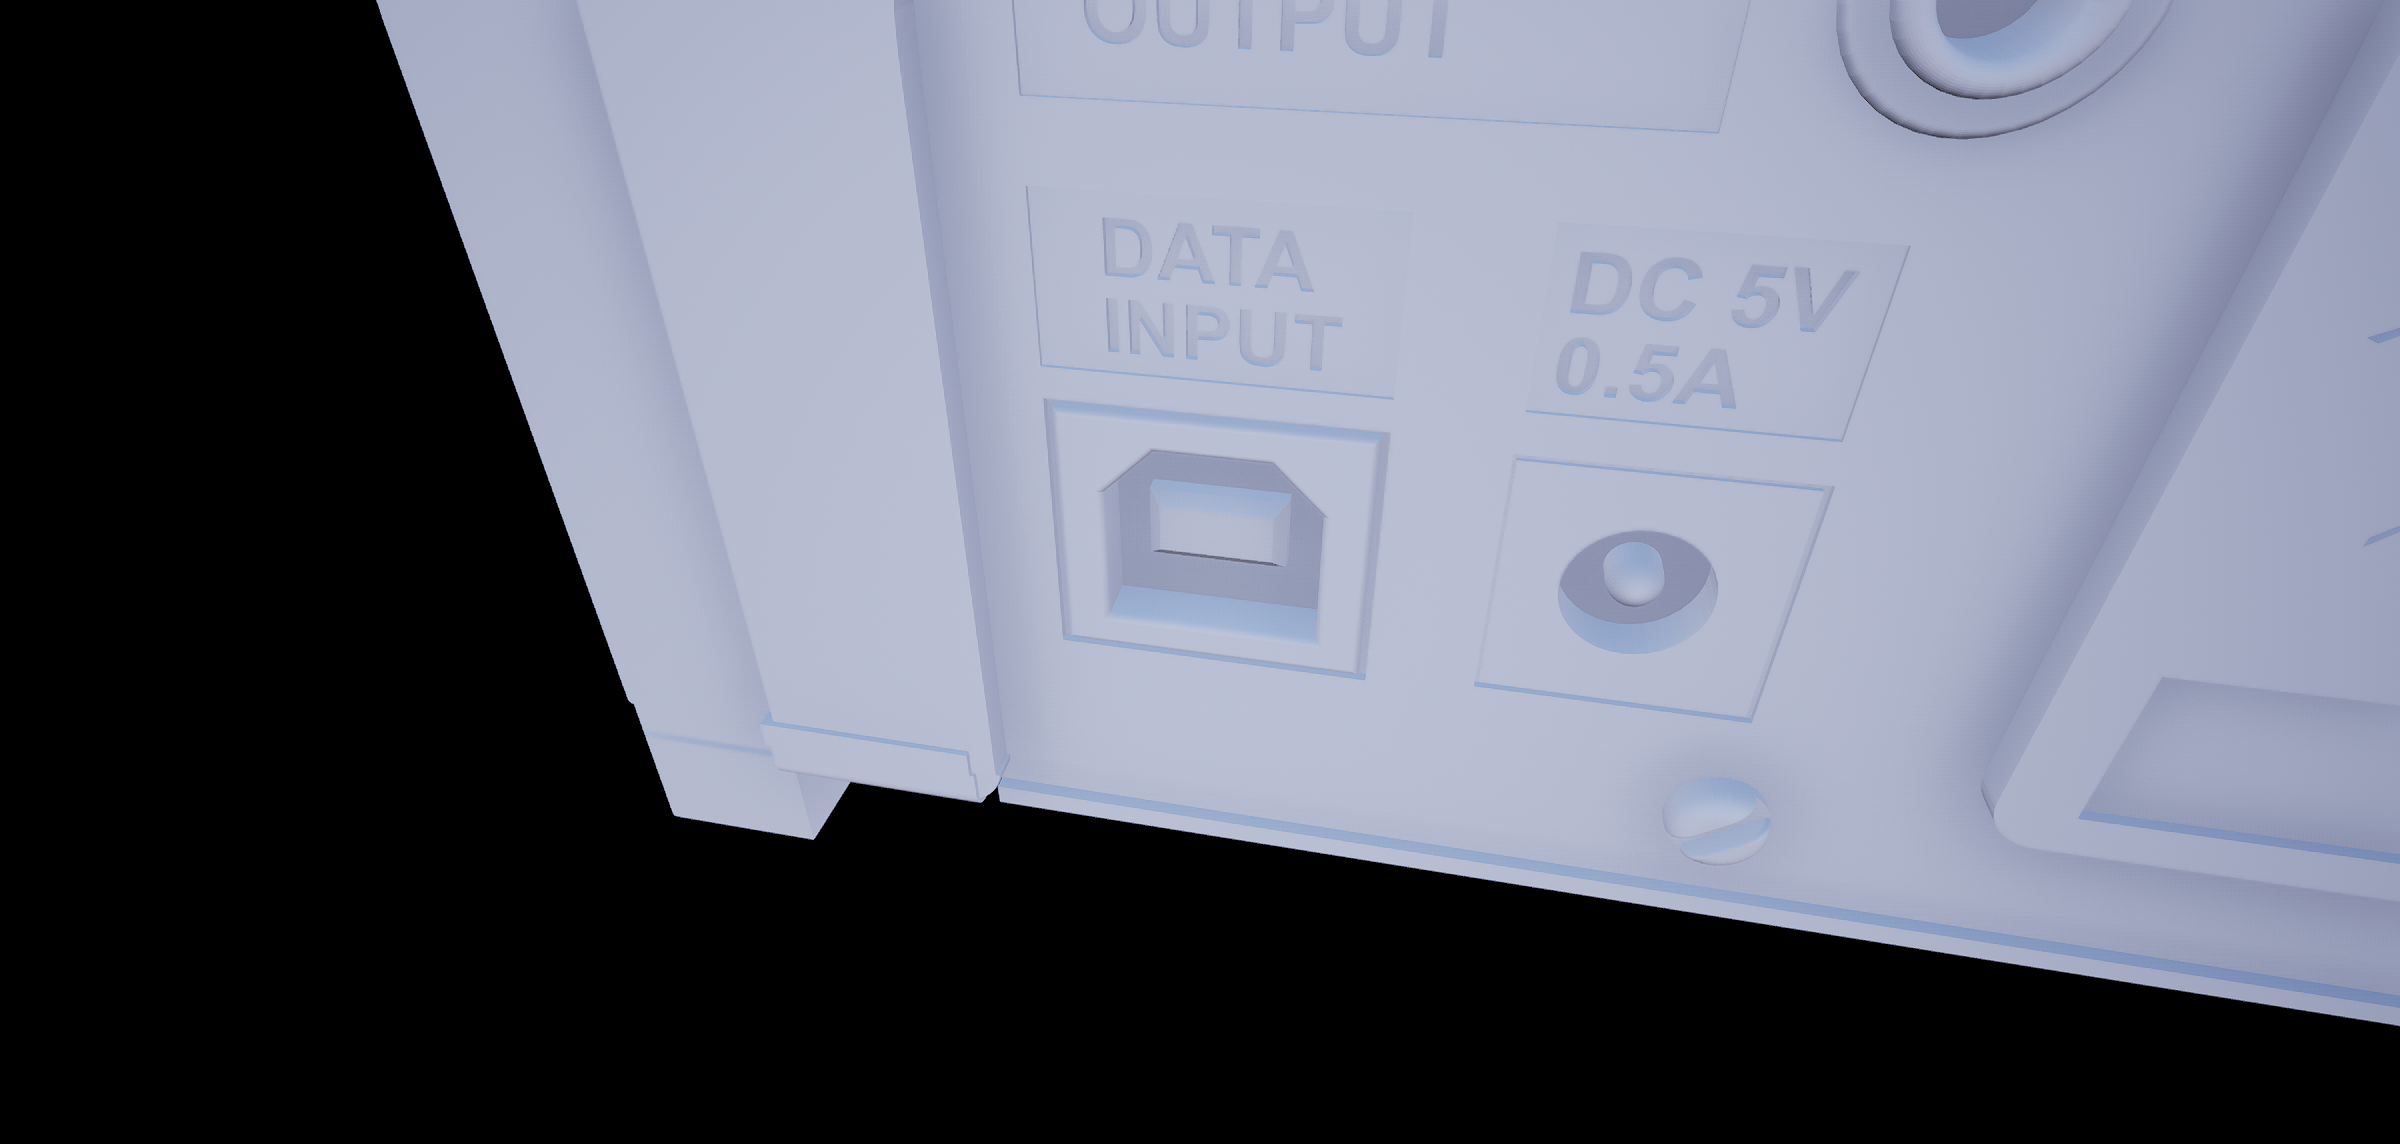aux: (1821, 2, 2212, 155)
dc: (1554, 510, 1730, 675)
usb: (1084, 438, 1345, 655)
